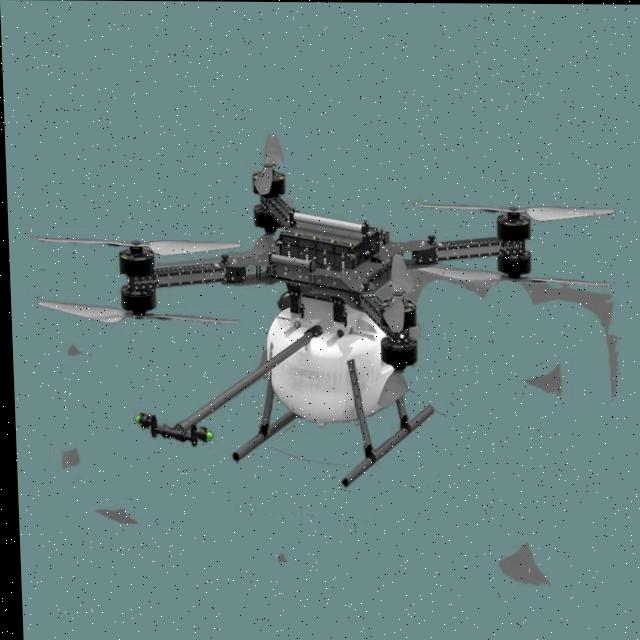drone: (5, 174, 623, 453)
